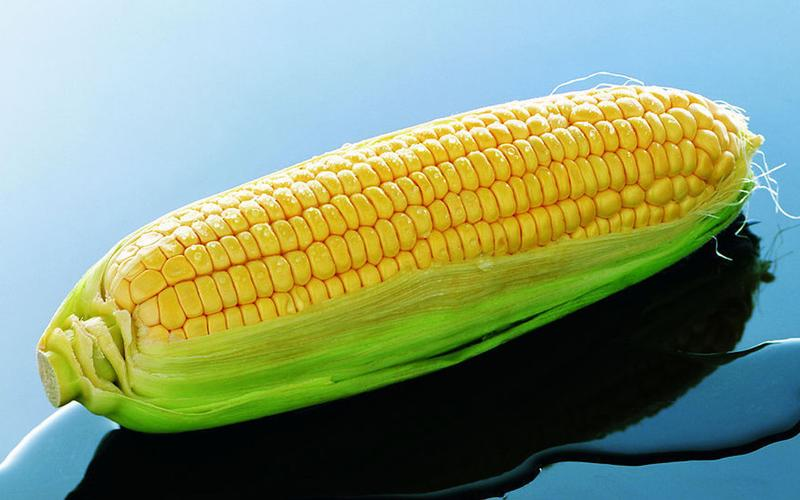corn: (43, 76, 748, 440)
